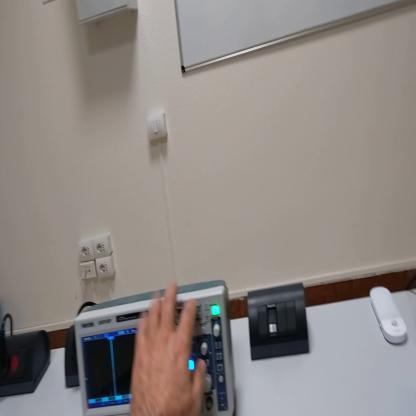hand: (132, 284, 208, 413)
oscilloscope: (78, 282, 239, 416)
socket: (2, 326, 55, 398), (64, 326, 81, 393)
